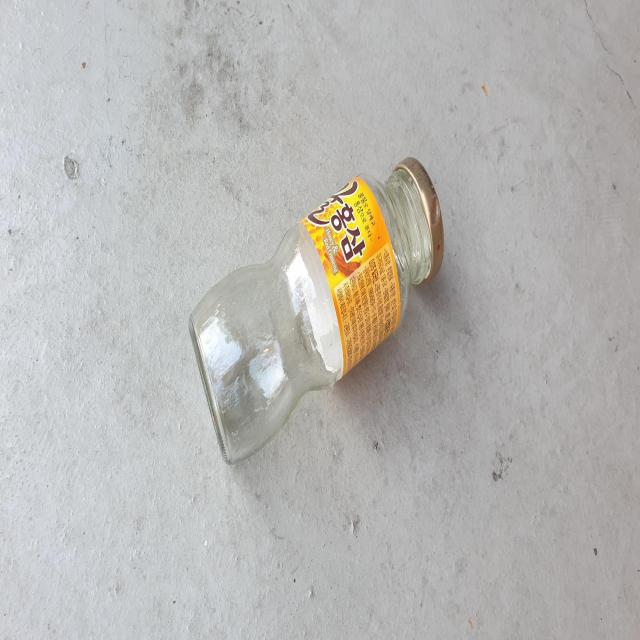glass: (189, 156, 445, 463)
